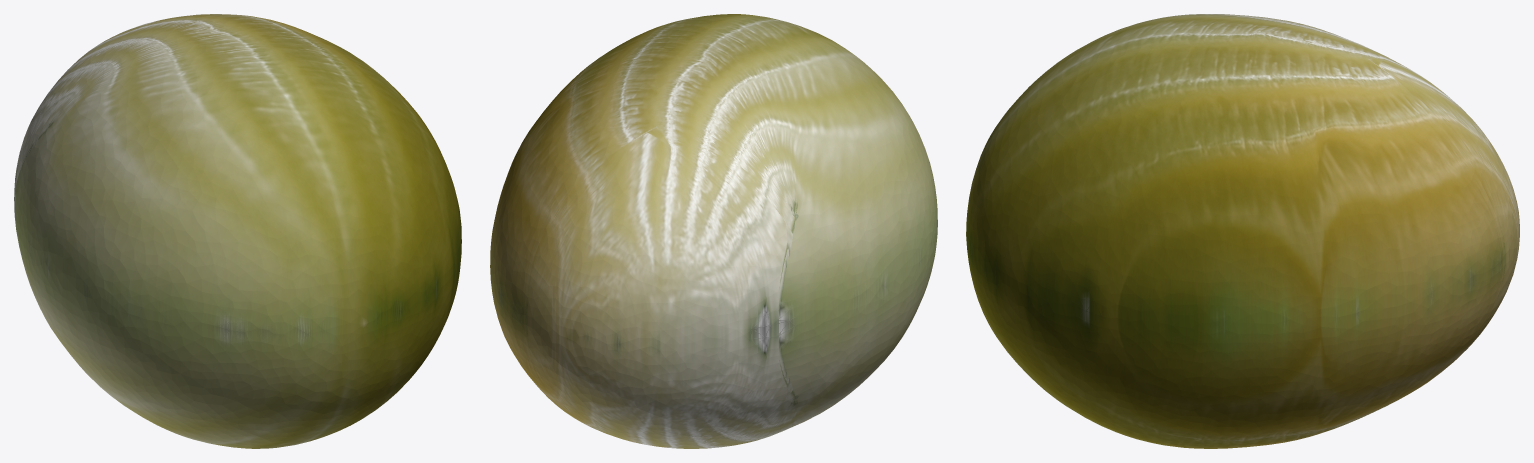
Rendered from huevo.glb.
3 views of the same model, side by side, from view 1: azimuth 30°, elevation 25°; view 2: azimuth 150°, elevation 25°; view 3: azimuth 270°, elevation 25° (orthographic). The views are drawn at different scales.
Parts seen in each view (by area): view 1: geometry_0; view 2: geometry_0; view 3: geometry_0.
Boxes of the visible parts, box(x1,y1,x2,y2) form: geometry_0: box(14, 14, 461, 448); geometry_0: box(490, 14, 937, 448); geometry_0: box(966, 14, 1519, 448).
Bounding box in the file's own units: 0.00647 × 0.00647 × 0.00824.
1 material, 1 textured.
